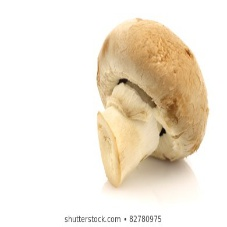mushroom: (99, 18, 211, 186)
